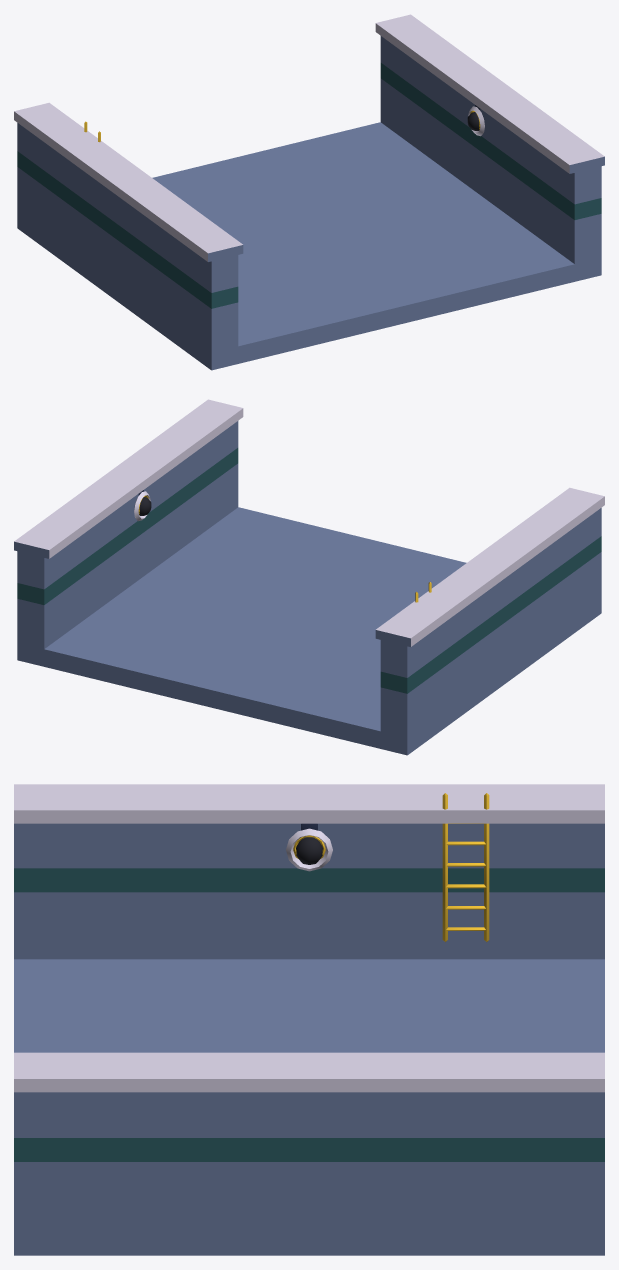
Rendered from W1_Canal_Straight.fbx.
3 renders of one model, top to bottom at view 1: azimuth 30°, elevation 25°; view 2: azimuth 150°, elevation 25°; view 3: azimuth 270°, elevation 25°, orthographic. The views are drawn at different scales.
Parts seen in each view (by area): view 1: W1_Canal_Straight; view 2: W1_Canal_Straight; view 3: W1_Canal_Straight.
Part boxes in pixels (x1=…): W1_Canal_Straight: x1=14, y1=14, x2=604, y2=370; W1_Canal_Straight: x1=14, y1=399, x2=604, y2=755; W1_Canal_Straight: x1=14, y1=784, x2=604, y2=1255.
Bounding box in the file's own units: 11.8 × 3.64 × 10.
